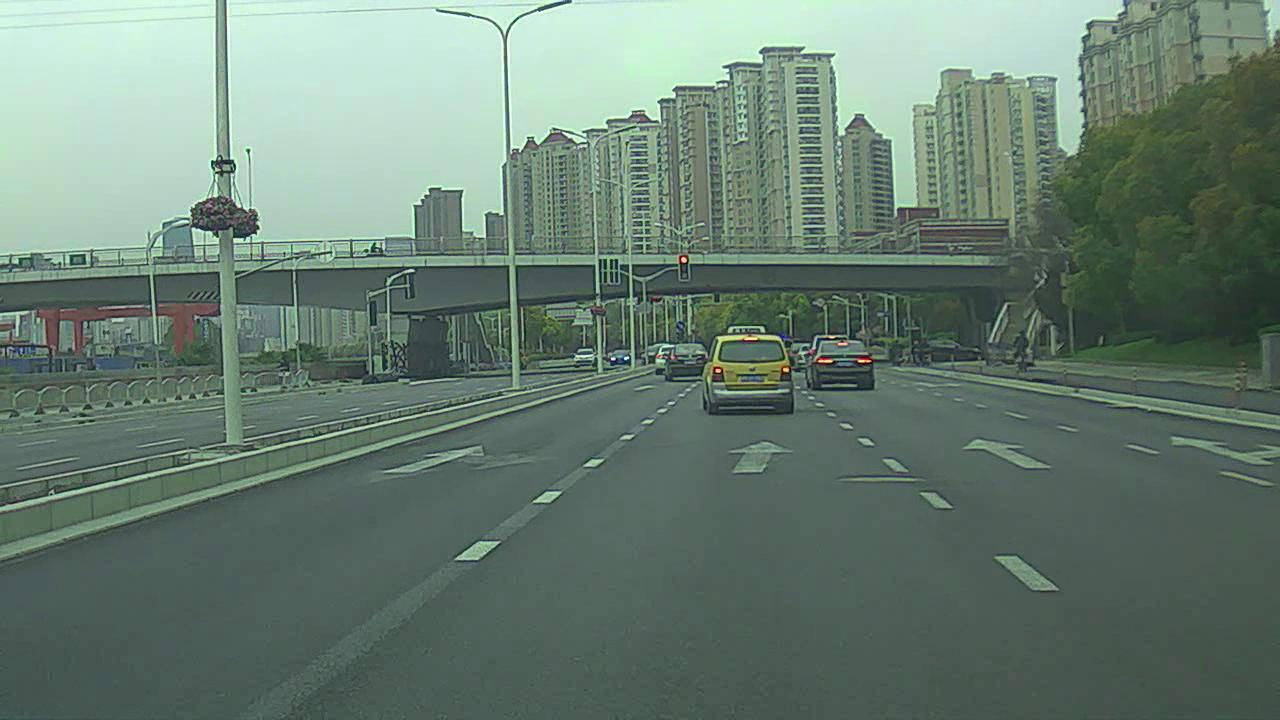traffic_light: (679, 253, 690, 279)
